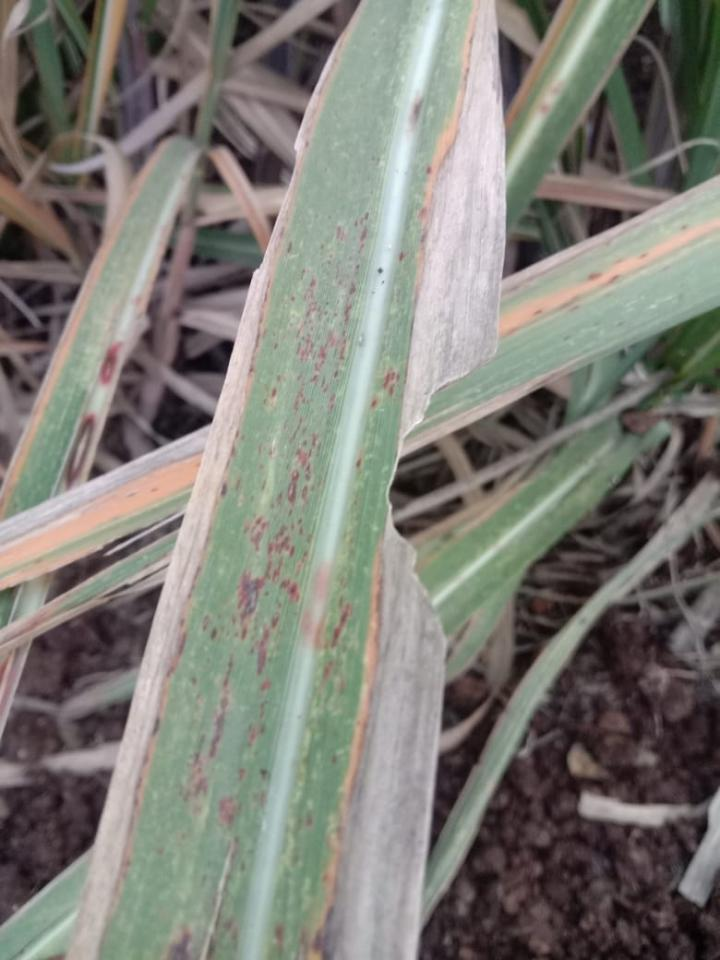RedRot: (301, 561, 332, 652), (65, 415, 96, 488), (100, 344, 119, 387)
Rust: (163, 206, 376, 959), (262, 543, 384, 959), (367, 362, 402, 412), (352, 447, 367, 471), (605, 271, 622, 290), (530, 306, 547, 320), (396, 247, 408, 266), (423, 162, 437, 178), (588, 270, 603, 283)
